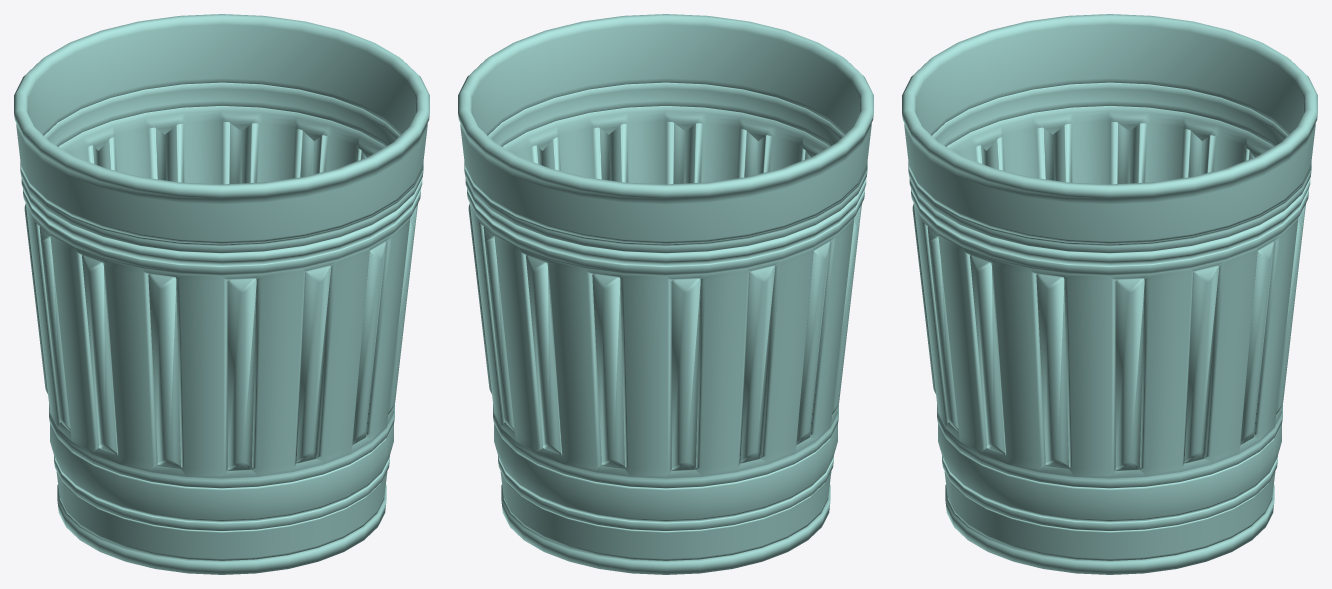
The model's file is Bin.fbx.
The picture shows the model from 3 angles, left to right: view 1: azimuth 30°, elevation 25°; view 2: azimuth 150°, elevation 25°; view 3: azimuth 270°, elevation 25°; orthographic projection.
Parts seen in each view (by area): view 1: Bin_4; view 2: Bin_4; view 3: Bin_4.
Boxes of the visible parts, <box> form: Bin_4: <box>14,14,429,574</box>; Bin_4: <box>458,14,873,574</box>; Bin_4: <box>902,14,1317,574</box>.
Size of the model in its own units: 31.74 by 33.98 by 31.57.
